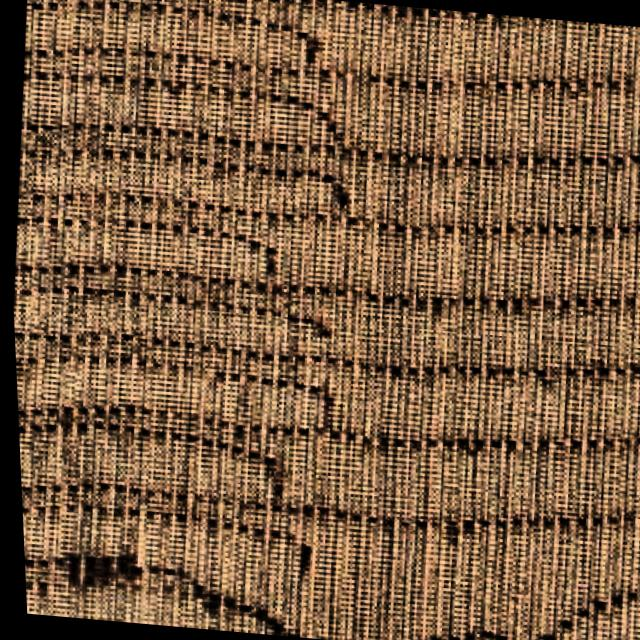Stitch: (18, 525, 319, 638)
